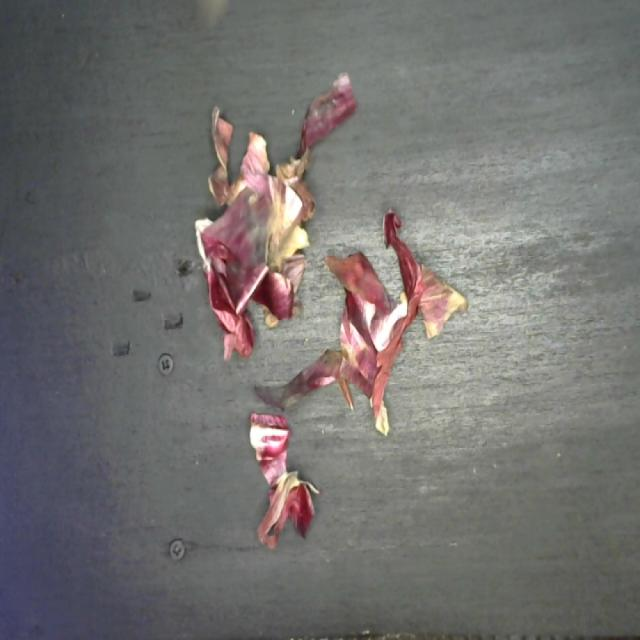biodegradable: (186, 66, 471, 553)
